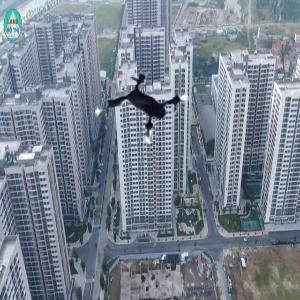drone: (89, 58, 201, 170)
